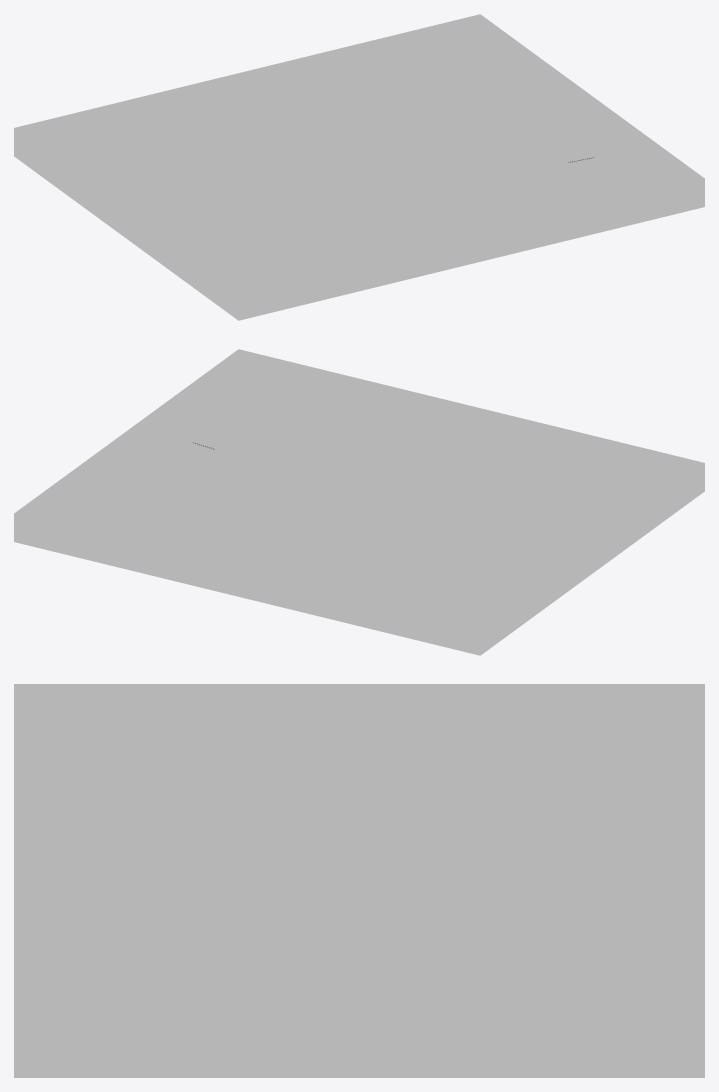
The model's file is red_star_pro_cw.dae.
3 renders of one model, top to bottom at view 1: azimuth 30°, elevation 25°; view 2: azimuth 150°, elevation 25°; view 3: azimuth 270°, elevation 25°, orthographic. The views are drawn at different scales.
Visible parts, largest first — view 1: field, wall, road, il, ol, cl; view 2: field, wall, road, il, ol, cl; view 3: field, wall, road, il, ol, cl.
Boxes of the visible parts, bbox=[...] form: field: bbox=[43, 42, 675, 292]; wall: bbox=[14, 14, 704, 320]; road: bbox=[135, 76, 632, 261]; il: bbox=[164, 88, 604, 248]; ol: bbox=[133, 75, 634, 262]; cl: bbox=[149, 82, 619, 255]; field: bbox=[43, 377, 675, 627]; wall: bbox=[14, 349, 704, 655]; road: bbox=[100, 404, 588, 591]; il: bbox=[129, 416, 560, 579]; ol: bbox=[98, 403, 590, 592]; cl: bbox=[114, 410, 574, 586]; field: bbox=[14, 728, 704, 1033]; wall: bbox=[14, 684, 704, 1077]; road: bbox=[54, 745, 664, 1033]; il: bbox=[98, 763, 620, 1033]; ol: bbox=[51, 743, 668, 1033]; cl: bbox=[76, 754, 642, 1033].
Bounding box in the file's own units: 17.17 × 14.33 × 1.
